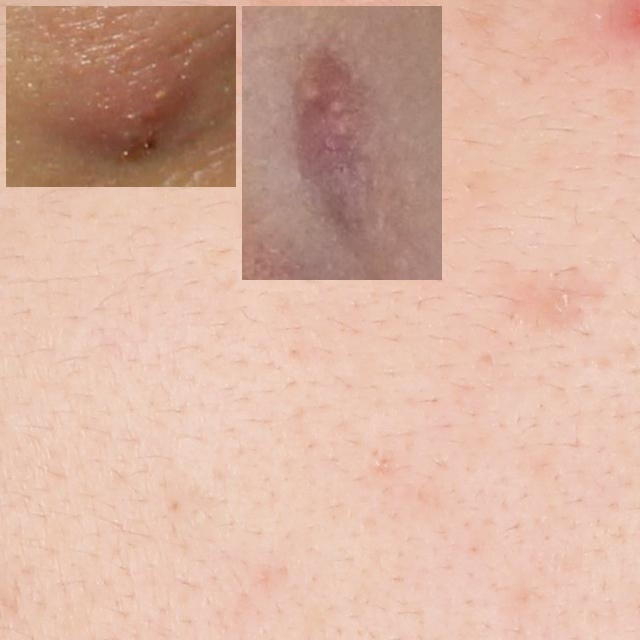nodule: (250, 14, 434, 272), (14, 14, 228, 179)
